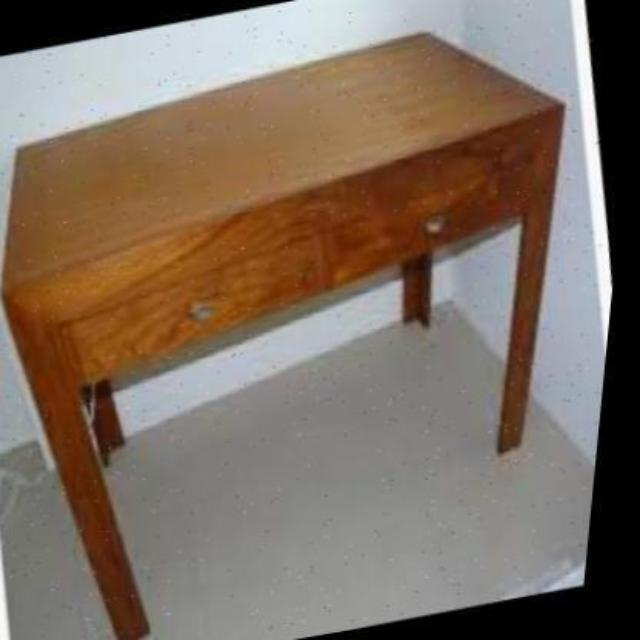table: (11, 28, 569, 640)
